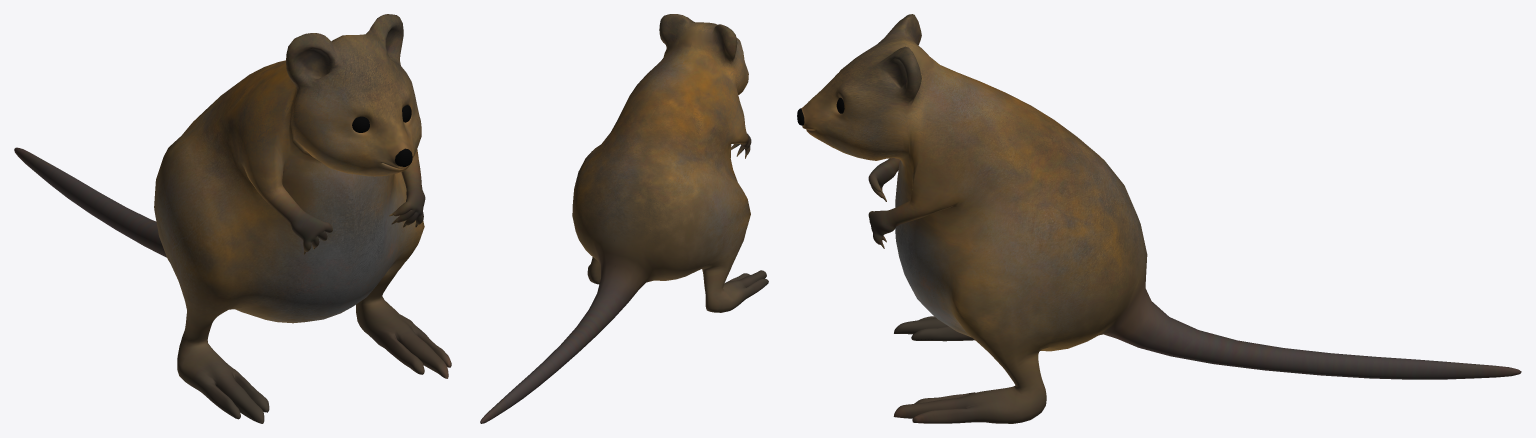
Rendered from quokka.glb.
3 views of the same model, side by side, from view 1: azimuth 30°, elevation 25°; view 2: azimuth 150°, elevation 25°; view 3: azimuth 270°, elevation 25° (orthographic). The views are drawn at different scales.
Parts seen in each view (by area): view 1: pSphere3; view 2: pSphere3; view 3: pSphere3.
Part boxes in pixels (bbox=[...]): pSphere3: bbox=[14, 14, 451, 423]; pSphere3: bbox=[480, 14, 768, 423]; pSphere3: bbox=[797, 14, 1521, 423].
Size of the model in its own units: 0.5388 by 0.8745 by 1.66.
2 materials, 1 textured.
